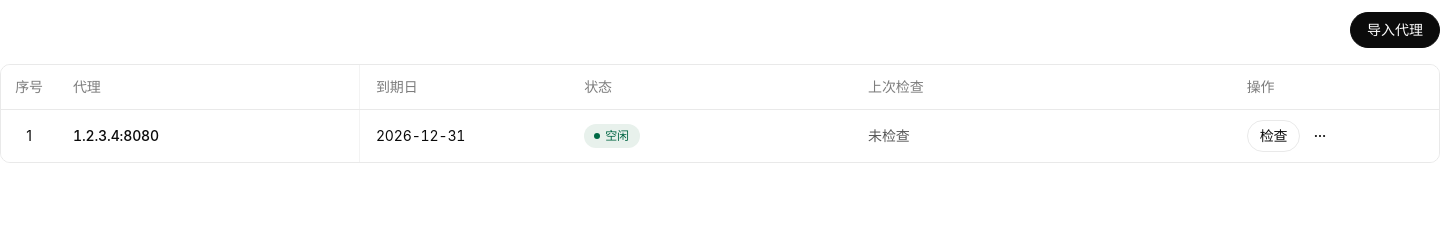
Test: 代理池页 › 检查结果含 ip_in_use_by 时提示该 IP 已被店铺使用
The image size is (1452, 250).
Click the button "检查" at (1274, 136), box [1247,120,1300,152]
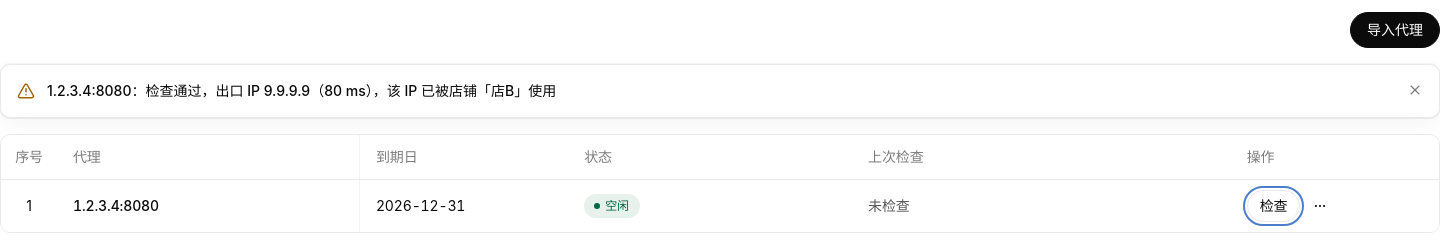
Expected: the text "1.2.3.4:8080：检查通过，出口 IP 9.9.9.9（80 ms），该 IP 已被店铺「店B」使用" is shown, [47,82,556,99]
